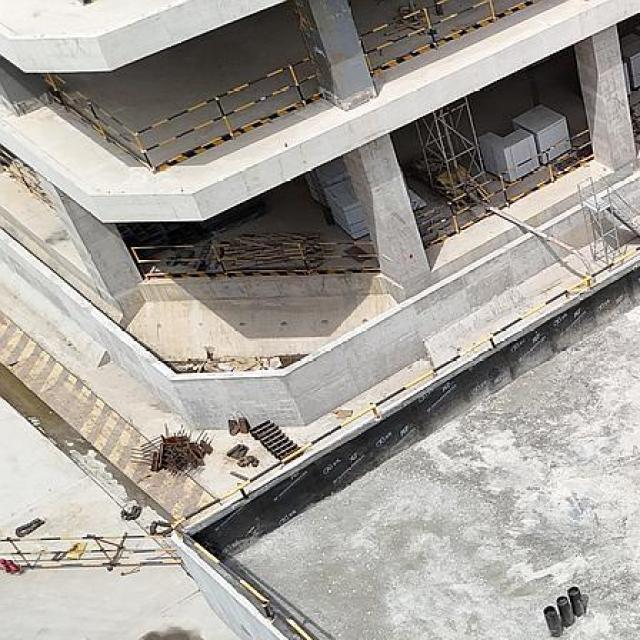edge_guardrail: (170, 244, 640, 639), (43, 54, 321, 174), (415, 128, 595, 248), (358, 0, 531, 77), (130, 242, 380, 277), (0, 148, 47, 201)
